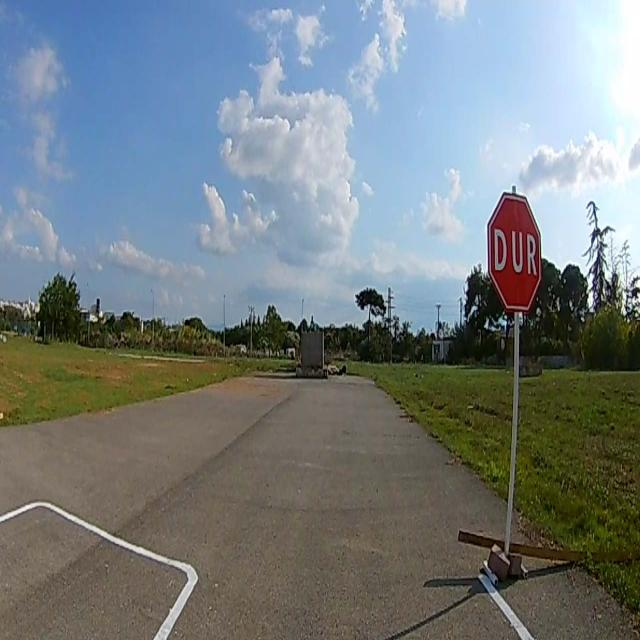dur: (488, 193, 542, 311)
